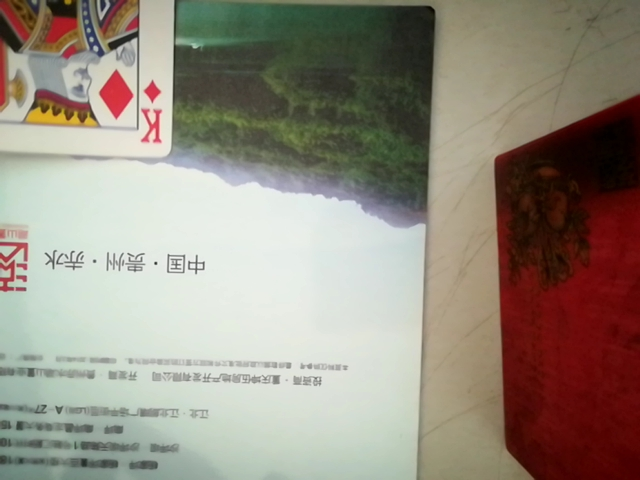fk k: (2, 0, 185, 167)
